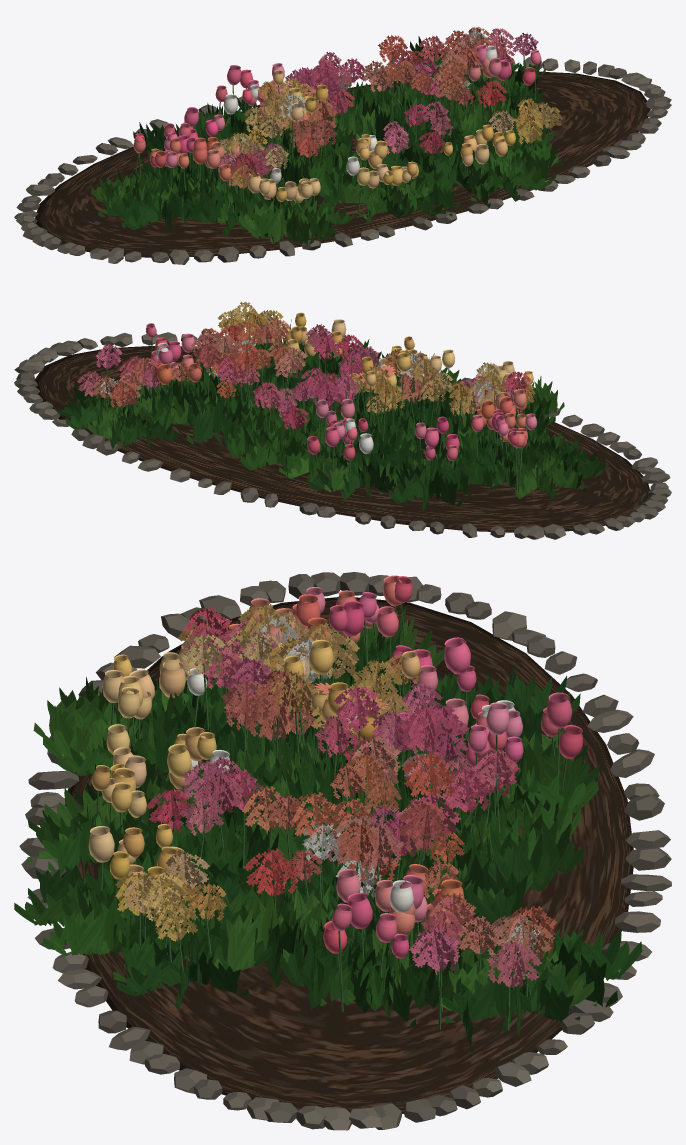
Rendered from flower-bed-5.glb.
3 views of the same model, one above another, from view 1: azimuth 30°, elevation 25°; view 2: azimuth 150°, elevation 25°; view 3: azimuth 270°, elevation 25° (orthographic). The views are drawn at different scales.
Parts seen in each view (by area): view 1: flower-bed-5_FlowerFoliage, flower-bed-5_Mulch, flower-bed-5_FlowerFloret, flower-bed-5_FlowerCup, flower-bed-5_EdgeStone, flower-bed-5_FlowerStem; view 2: flower-bed-5_FlowerFoliage, flower-bed-5_Mulch, flower-bed-5_FlowerFloret, flower-bed-5_EdgeStone, flower-bed-5_FlowerCup, flower-bed-5_FlowerStem; view 3: flower-bed-5_FlowerFoliage, flower-bed-5_FlowerFloret, flower-bed-5_Mulch, flower-bed-5_EdgeStone, flower-bed-5_FlowerCup, flower-bed-5_FlowerStem.
Boxes of the visible parts, x1,y1,x2,y2 form: flower-bed-5_FlowerFoliage: (91, 36, 563, 245); flower-bed-5_Mulch: (35, 71, 650, 257); flower-bed-5_FlowerFloret: (216, 27, 562, 188); flower-bed-5_FlowerCup: (133, 45, 541, 202); flower-bed-5_EdgeStone: (14, 57, 671, 264); flower-bed-5_FlowerStem: (135, 56, 549, 221); flower-bed-5_FlowerFoliage: (57, 319, 605, 512); flower-bed-5_Mulch: (34, 346, 650, 532); flower-bed-5_FlowerFloret: (77, 301, 535, 429); flower-bed-5_EdgeStone: (14, 332, 671, 539); flower-bed-5_FlowerCup: (145, 312, 537, 460); flower-bed-5_FlowerStem: (92, 332, 531, 490); flower-bed-5_FlowerFoliage: (14, 605, 642, 1052); flower-bed-5_FlowerFloret: (115, 603, 557, 987); flower-bed-5_Mulch: (60, 597, 633, 1113); flower-bed-5_EdgeStone: (19, 572, 671, 1130); flower-bed-5_FlowerCup: (88, 575, 582, 958); flower-bed-5_FlowerStem: (96, 603, 567, 1030).
Size of the model in its own units: 4.76 by 0.7276 by 2.39.
7 materials, 4 textured.
